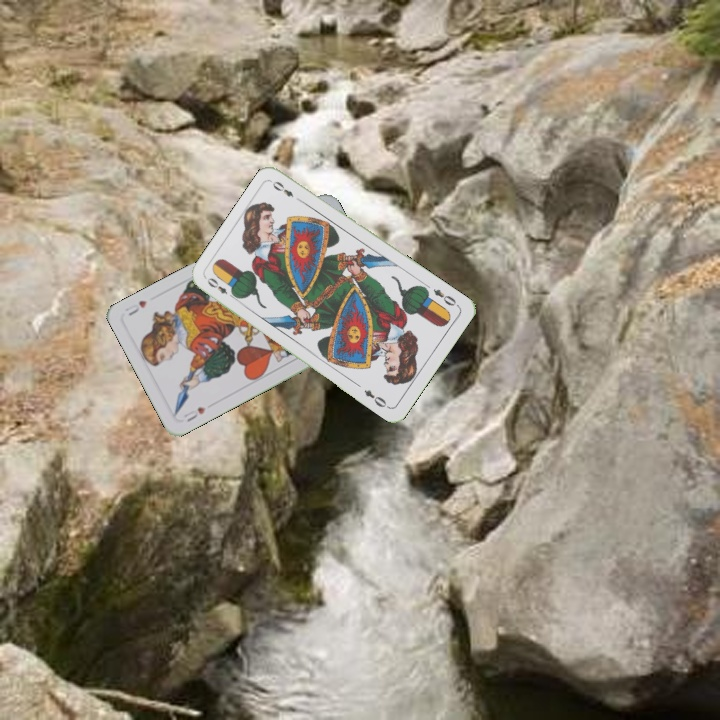EO: (203, 273, 239, 302), (429, 285, 461, 309)
HU: (178, 403, 208, 424)
